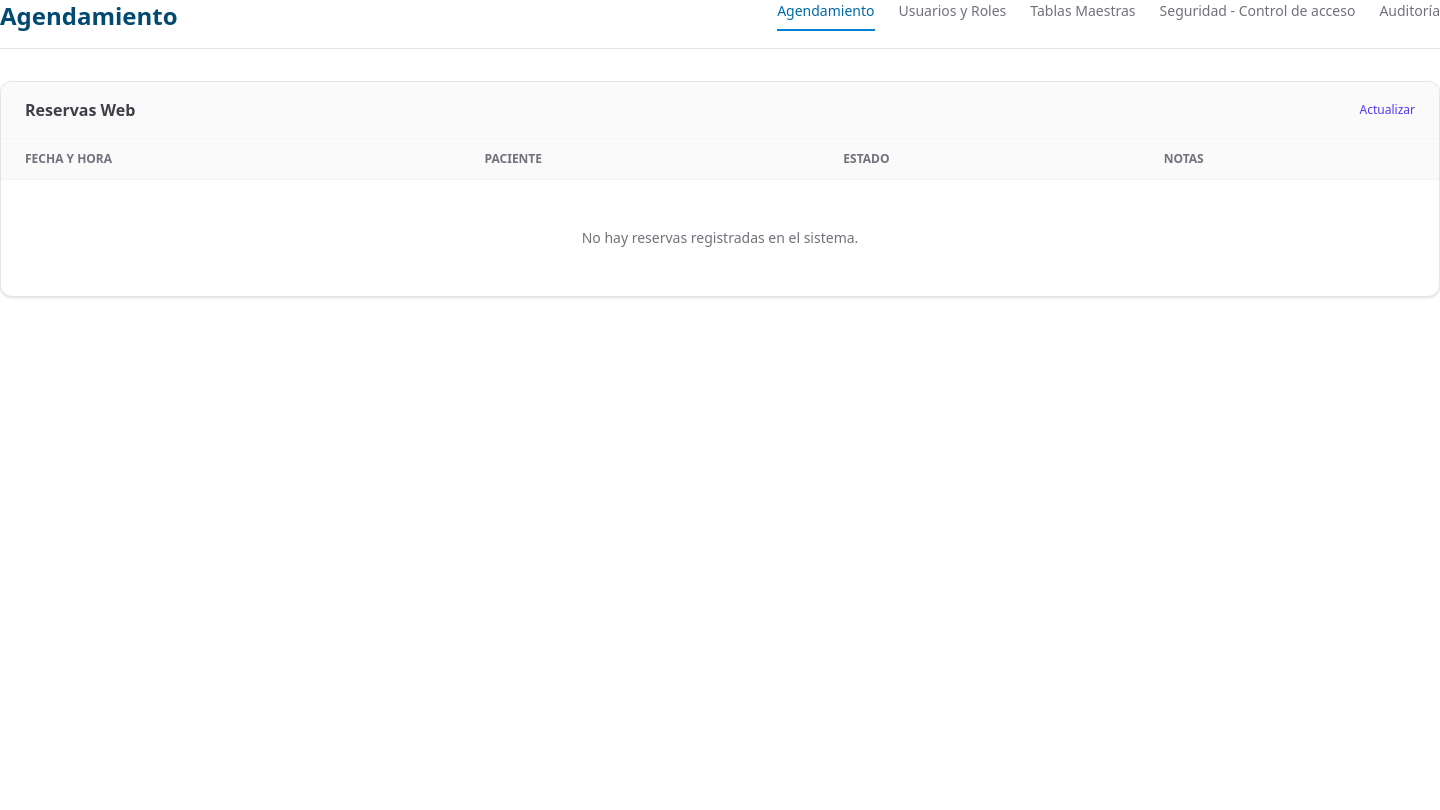
Test case: DashboardContent - Password Validation › should show password field when creating new user
The width and height of the screenshot is (1440, 810).
Step 1. Click the button "Usuarios y Roles" → (952, 16), box [898, 1, 1006, 31]
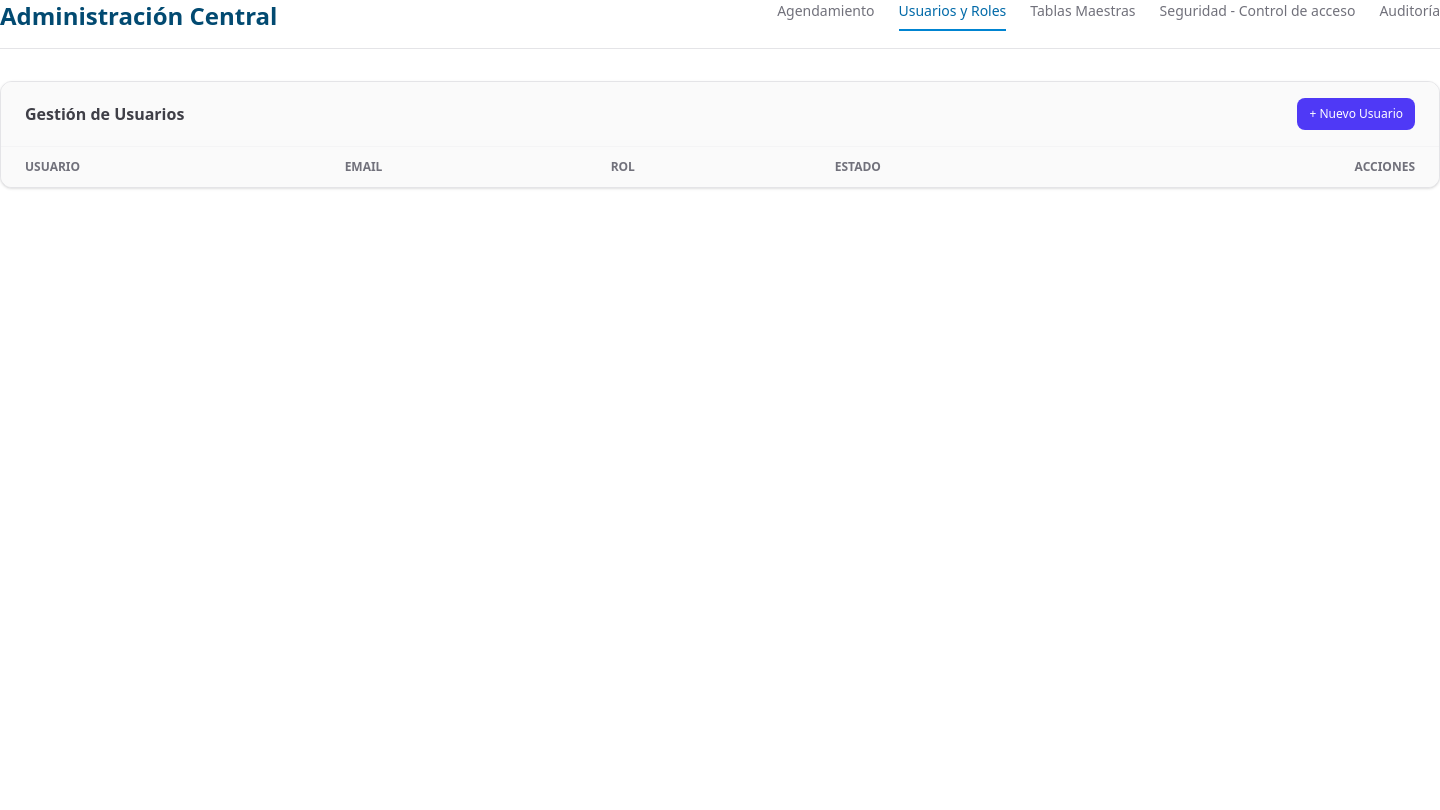
Step 2. Click the button "+ Nuevo Usuario" → (1356, 114), box [1298, 98, 1415, 130]
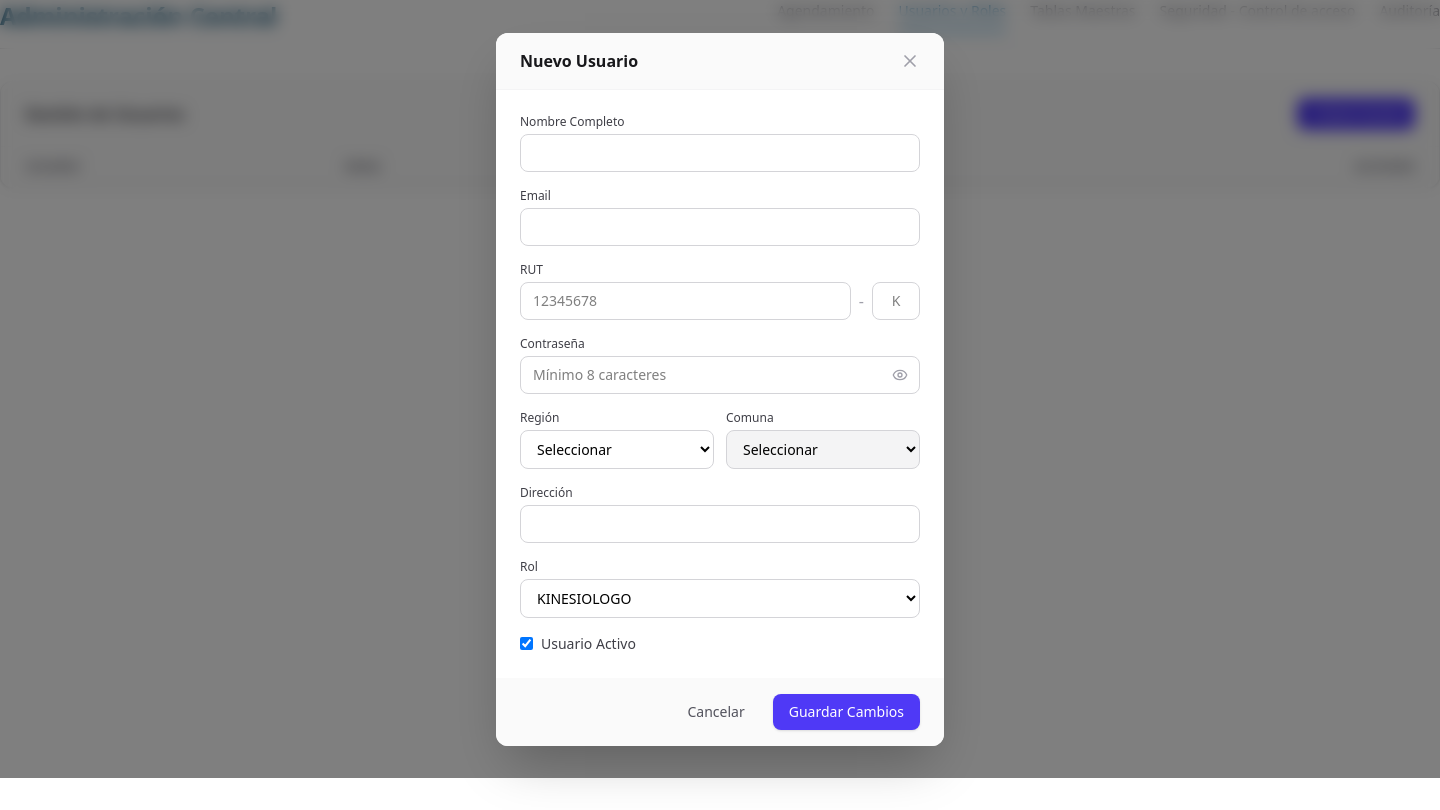
Result: the password field with placeholder "Mínimo 8 caracteres" is shown at [520, 356, 920, 394]
